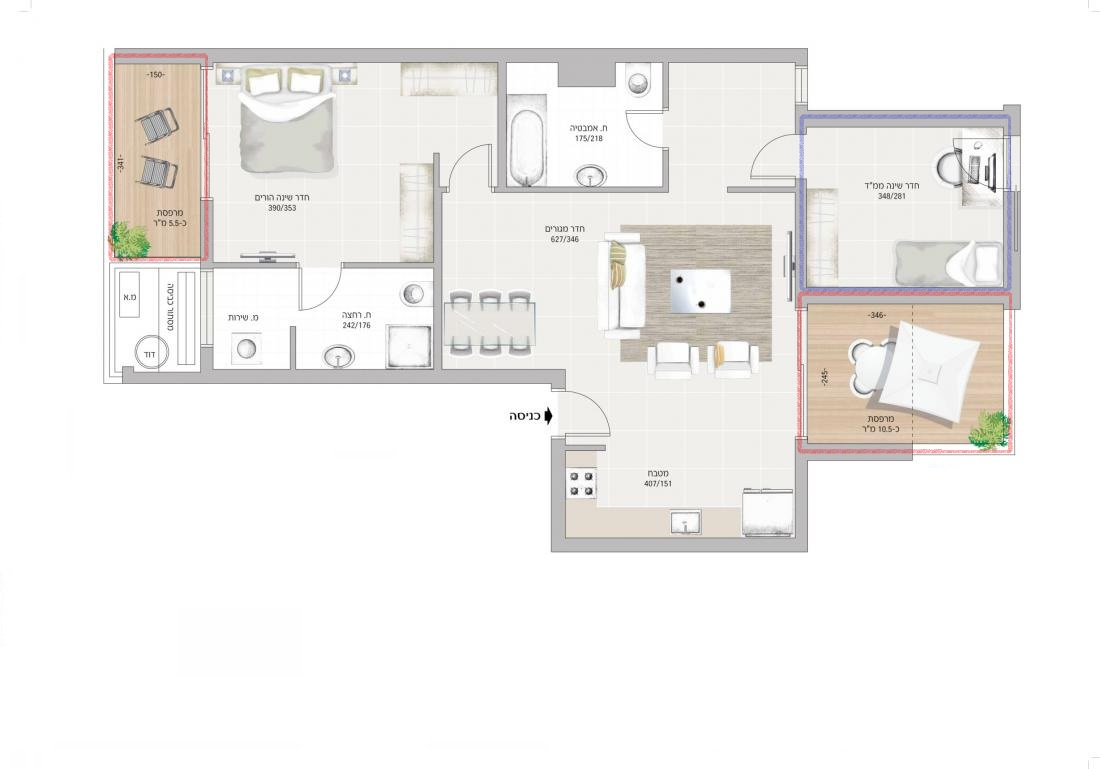balcony: (799, 290, 1011, 451), (108, 54, 209, 259)
no: (551, 230, 806, 556), (214, 53, 505, 265), (503, 50, 802, 218), (209, 262, 440, 383), (107, 260, 209, 379), (208, 260, 299, 378)
securityroom: (800, 113, 1011, 291)
